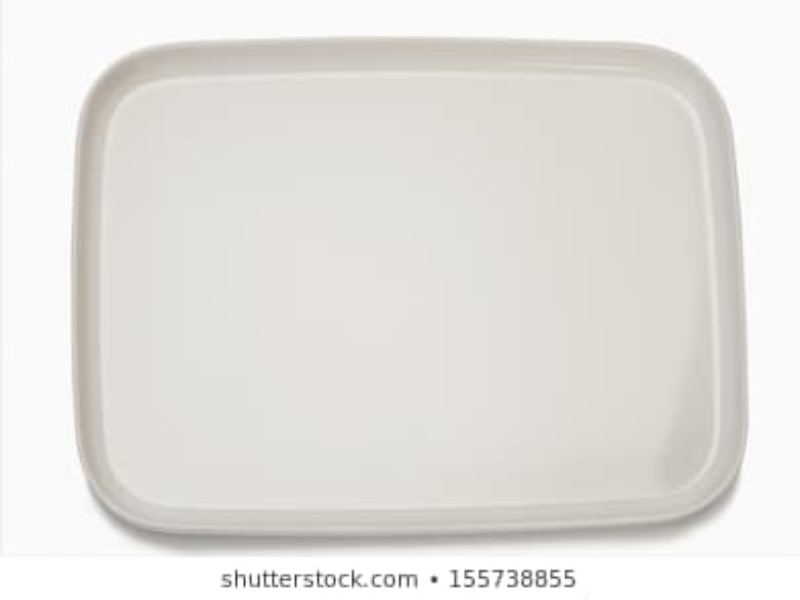plastic-tray: (69, 32, 745, 533)
